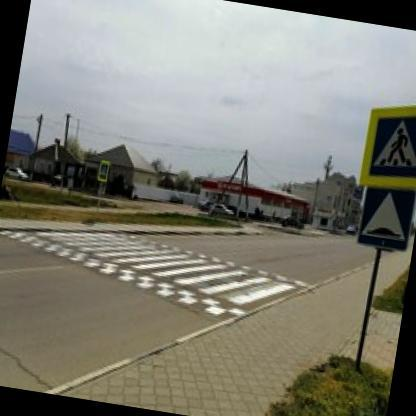obstructed_road_sign: (359, 105, 416, 189)
road_sign: (358, 188, 416, 252)
